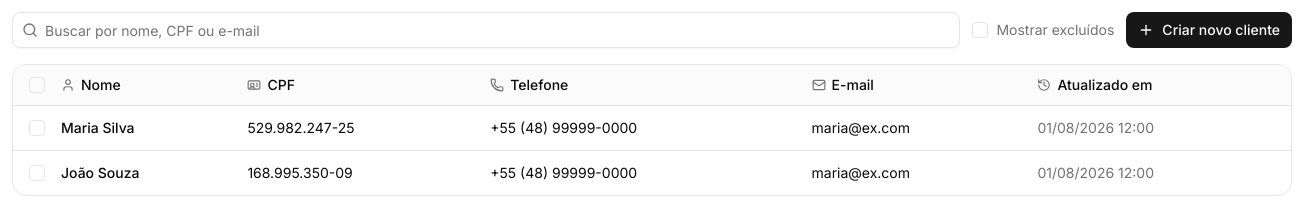
Test case: ClientesTable › selecionar linhas revela a barra de ações em lote
Expected: the text "Maria Silva" is shown, [61, 118, 135, 136]
Click the checkbox named "Selecionar Maria Silva" at point(37, 128), box [29, 120, 45, 136]
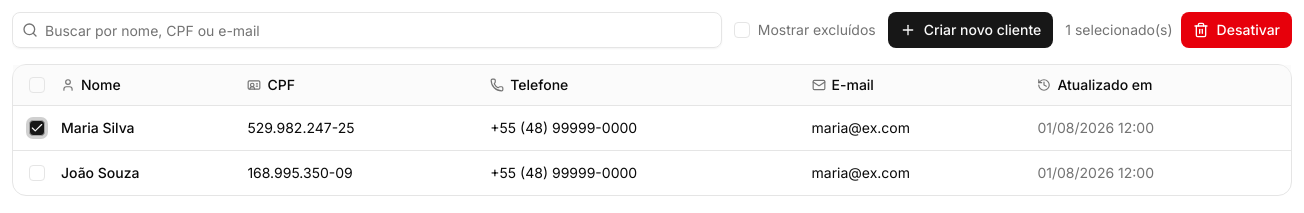
Expected: the text "1 selecionado(s)" is shown, [1065, 20, 1172, 40]
